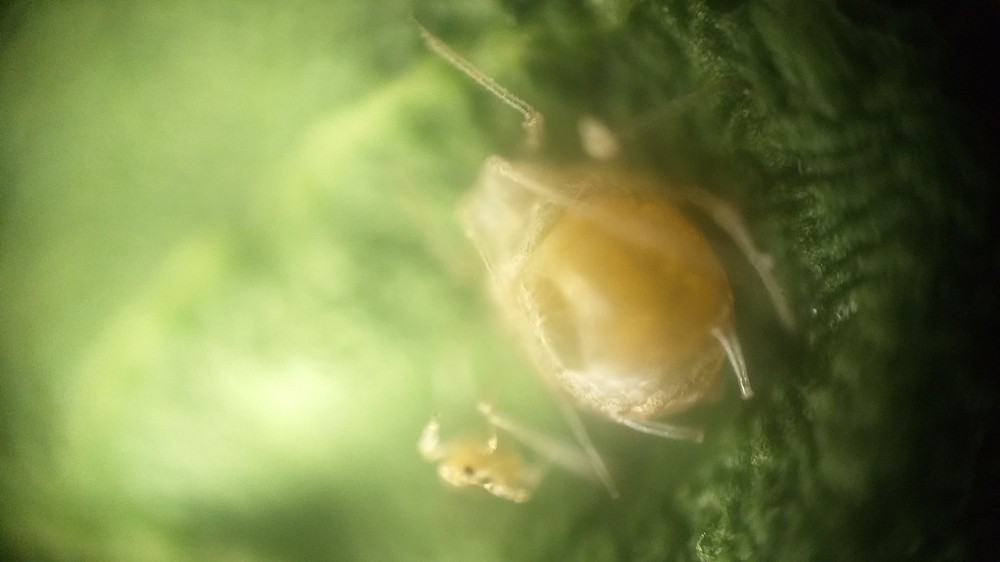Pulgon: (402, 55, 813, 474)
